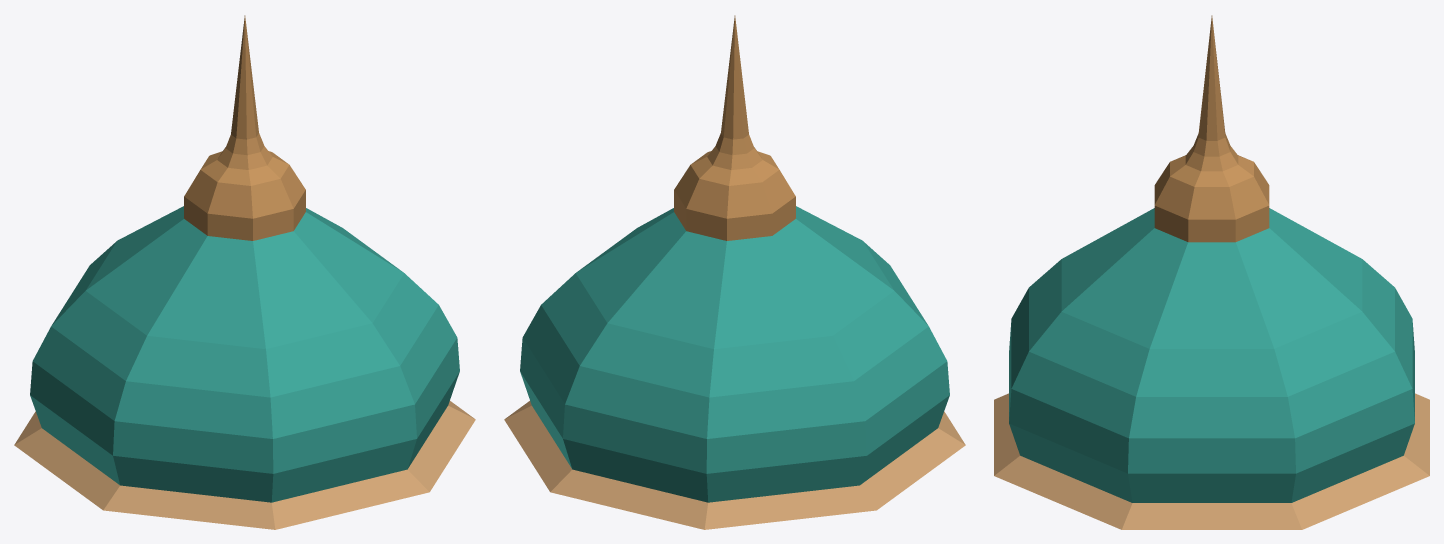
The model's file is Tower_Parapet_Simple_Crowned.fbx.
3 renders of one model, left to right at view 1: azimuth 30°, elevation 25°; view 2: azimuth 150°, elevation 25°; view 3: azimuth 270°, elevation 25°, orthographic.
Parts seen in each view (by area): view 1: Blue_Fabric_1.object1, Sandstone_5.Sandstone_5, Sandstone_6; view 2: Blue_Fabric_1.object1, Sandstone_5.Sandstone_5, Sandstone_6; view 3: Blue_Fabric_1.object1, Sandstone_5.Sandstone_5, Sandstone_6.
Part boxes in pixels (x1=…): Blue_Fabric_1.object1: x1=30, y1=206, x2=459, y2=502; Sandstone_5.Sandstone_5: x1=14, y1=401, x2=475, y2=529; Sandstone_6: x1=184, y1=15, x2=305, y2=240; Blue_Fabric_1.object1: x1=520, y1=206, x2=949, y2=502; Sandstone_5.Sandstone_5: x1=504, y1=401, x2=965, y2=529; Sandstone_6: x1=674, y1=15, x2=795, y2=240; Blue_Fabric_1.object1: x1=1009, y1=208, x2=1414, y2=502; Sandstone_5.Sandstone_5: x1=994, y1=393, x2=1429, y2=529; Sandstone_6: x1=1154, y1=15, x2=1269, y2=242.
Bounding box in the file's own units: 3.75 × 4.1 × 3.75.
